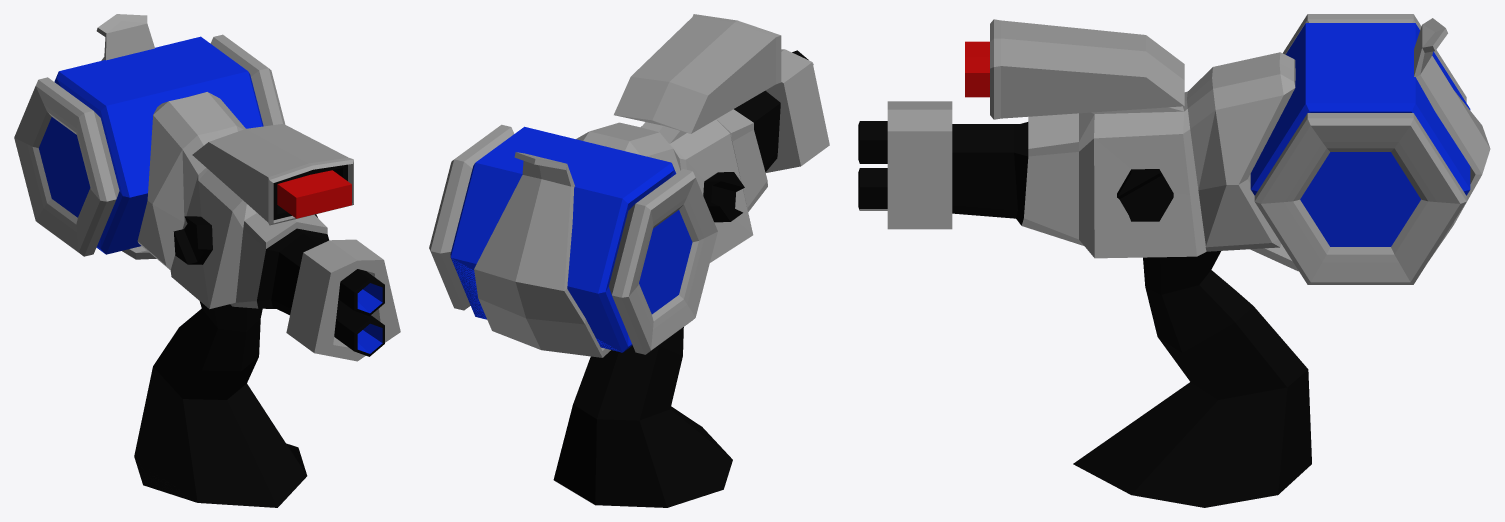
3 views of the same model, side by side, from view 1: azimuth 30°, elevation 25°; view 2: azimuth 150°, elevation 25°; view 3: azimuth 270°, elevation 25° (orthographic). The views are drawn at different scales.
Visible parts, largest first — view 1: Cylinder.017; view 2: Cylinder.017; view 3: Cylinder.017.
Boxes of the visible parts, box(x1,y1,x2,y2) form: Cylinder.017: box(14, 14, 400, 507); Cylinder.017: box(429, 14, 829, 507); Cylinder.017: box(858, 14, 1490, 507).
Size of the model in its own units: 991 by 1849 by 2429.
